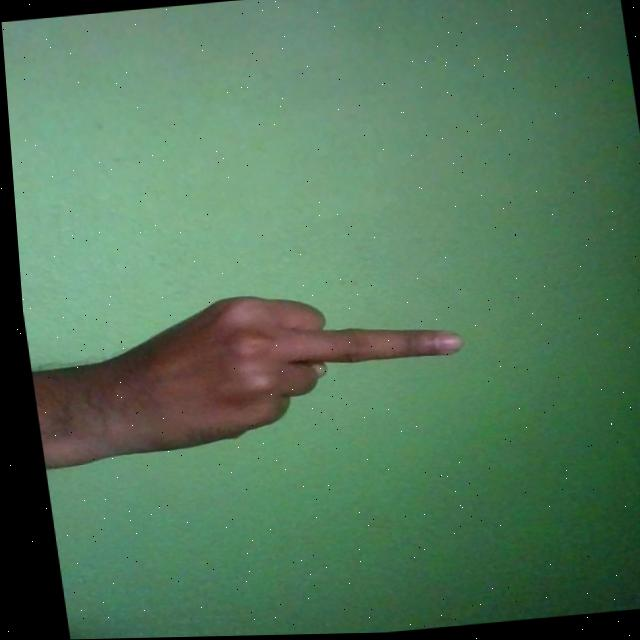Middle Finger: (24, 276, 470, 462)
